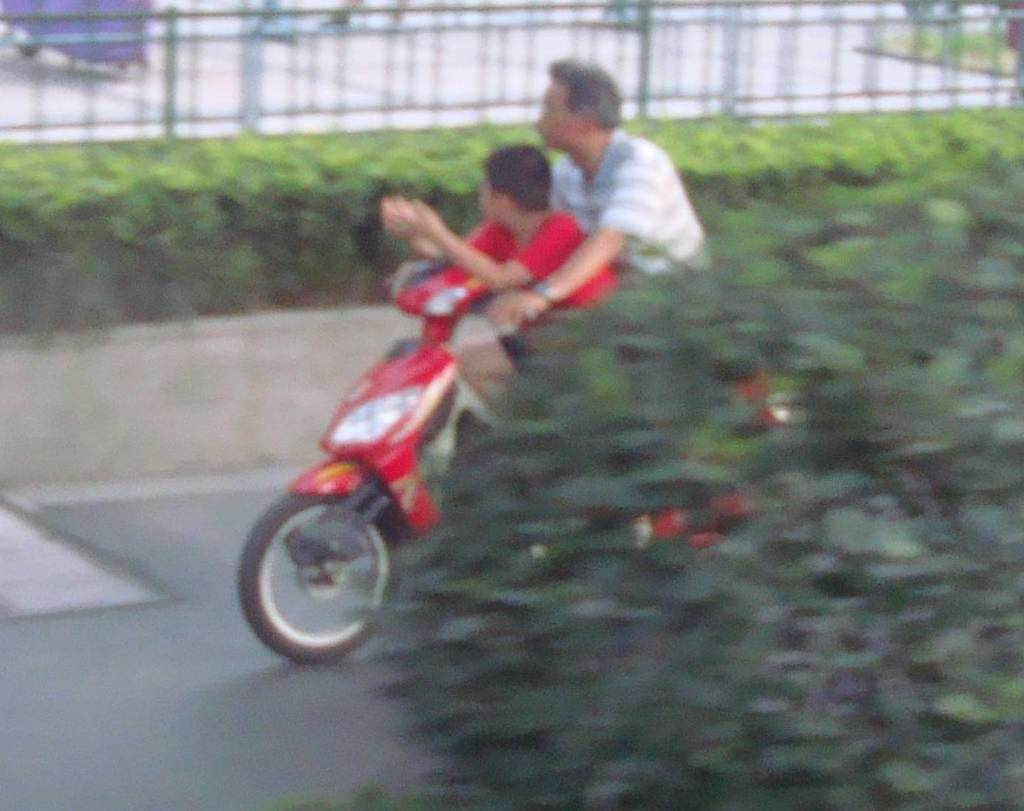Person: (377, 143, 612, 305)
